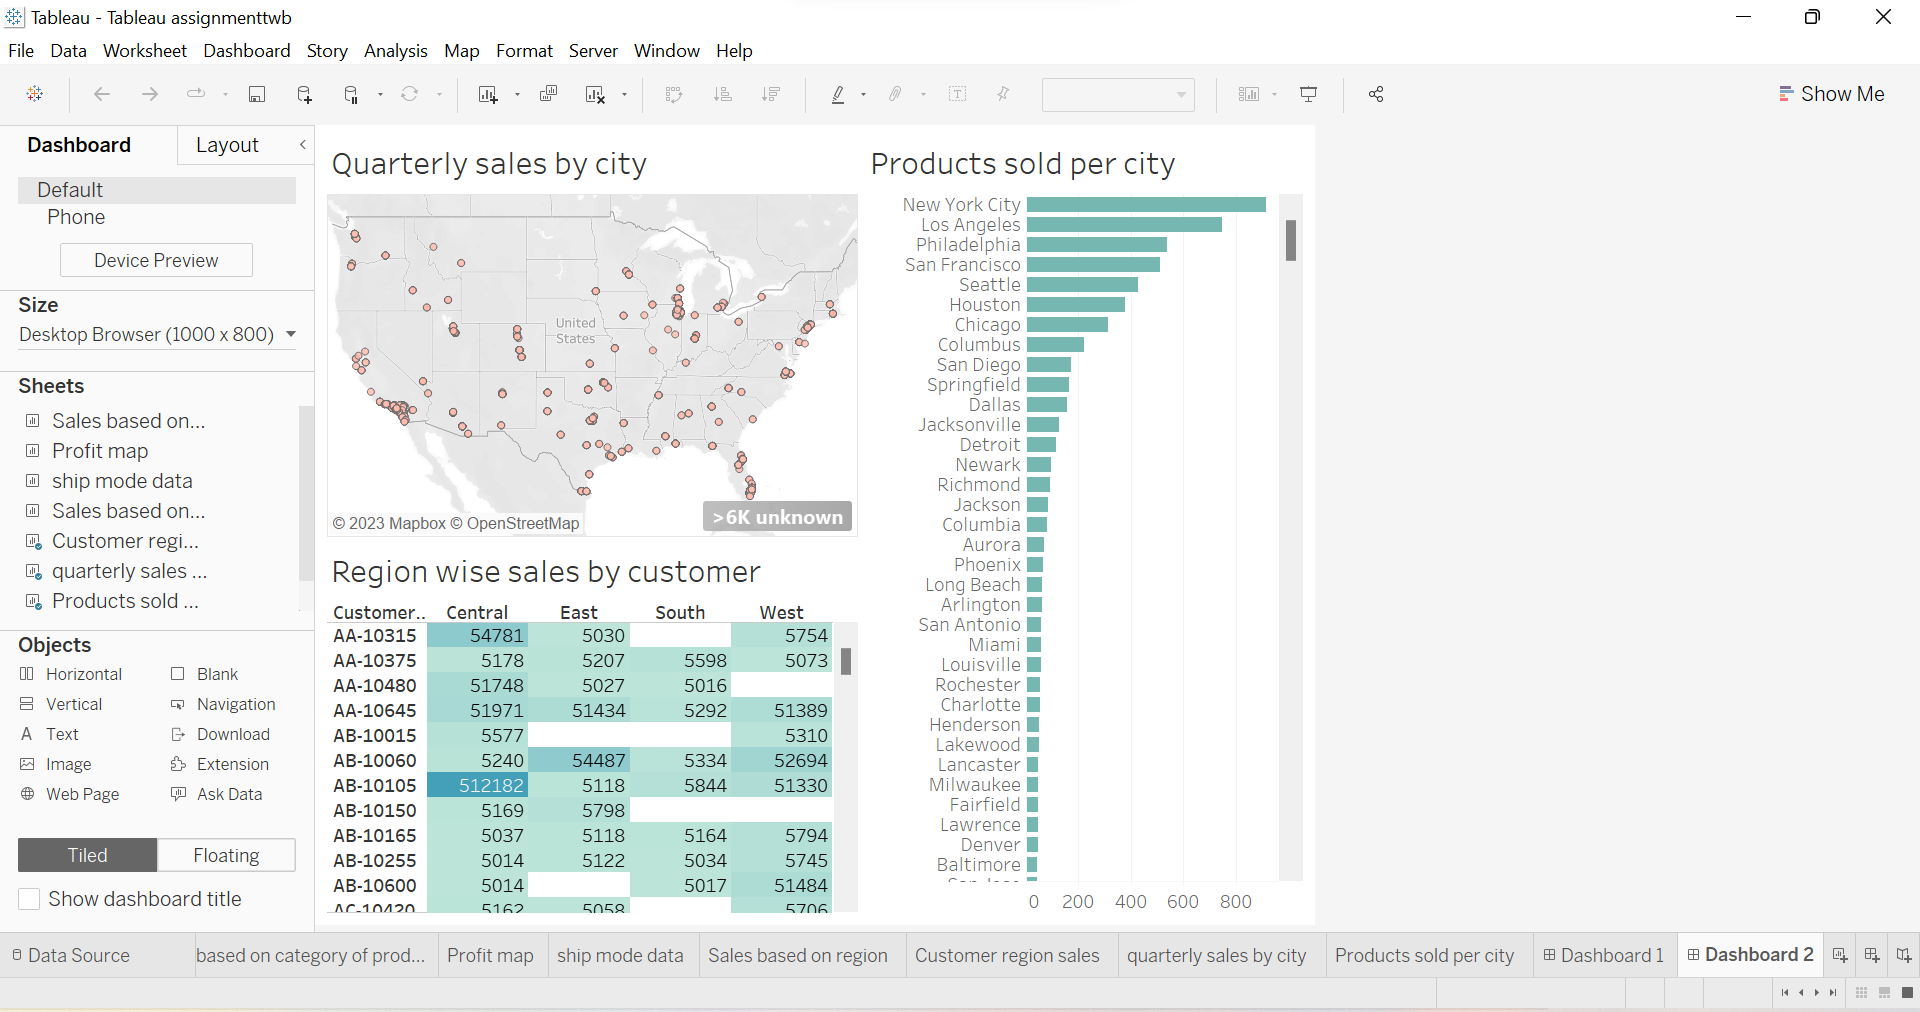

This screenshot's page, from the dashboard's own definition file:
{"tool":"tableau","page":{"name":"Dashboard 2","canvas":[1000,800],"ordinal":1},"visuals":[{"type":"worksheet","title":"quarterly sales by city","mark":"Multipolygon","box":[8,8,539,408]},{"type":"worksheet","title":"Products sold per city","mark":"Automatic","rows":["City"],"cols":["Product ID"],"box":[547,8,445,784]},{"type":"worksheet","title":"Customer region sales","mark":"Square","rows":["Customer ID"],"cols":["Region"],"box":[8,416,539,376]}]}

Visuals, with their boxes on the page's 1000x800 design canvas (x1, y1, x2, y2). These are canvas units, not pixel positions in the 1920x1012 screenshot, which may show the page scaled, cropped or inside an application window:
"quarterly sales by city" worksheet (Multipolygon marks): bbox(8, 8, 547, 416)
"Products sold per city" worksheet: bbox(547, 8, 992, 792)
"Customer region sales" worksheet (Square marks): bbox(8, 416, 547, 792)
